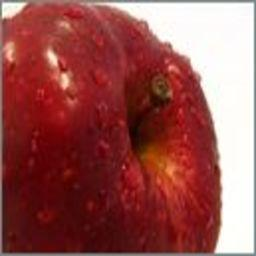apple: (0, 0, 222, 253)
